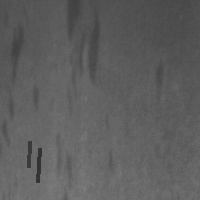inclusion: (2, 8, 37, 148), (56, 1, 89, 117), (84, 6, 107, 88), (53, 129, 75, 197), (148, 54, 172, 113), (27, 78, 44, 114), (103, 147, 120, 176), (35, 146, 41, 184), (26, 139, 31, 169)
